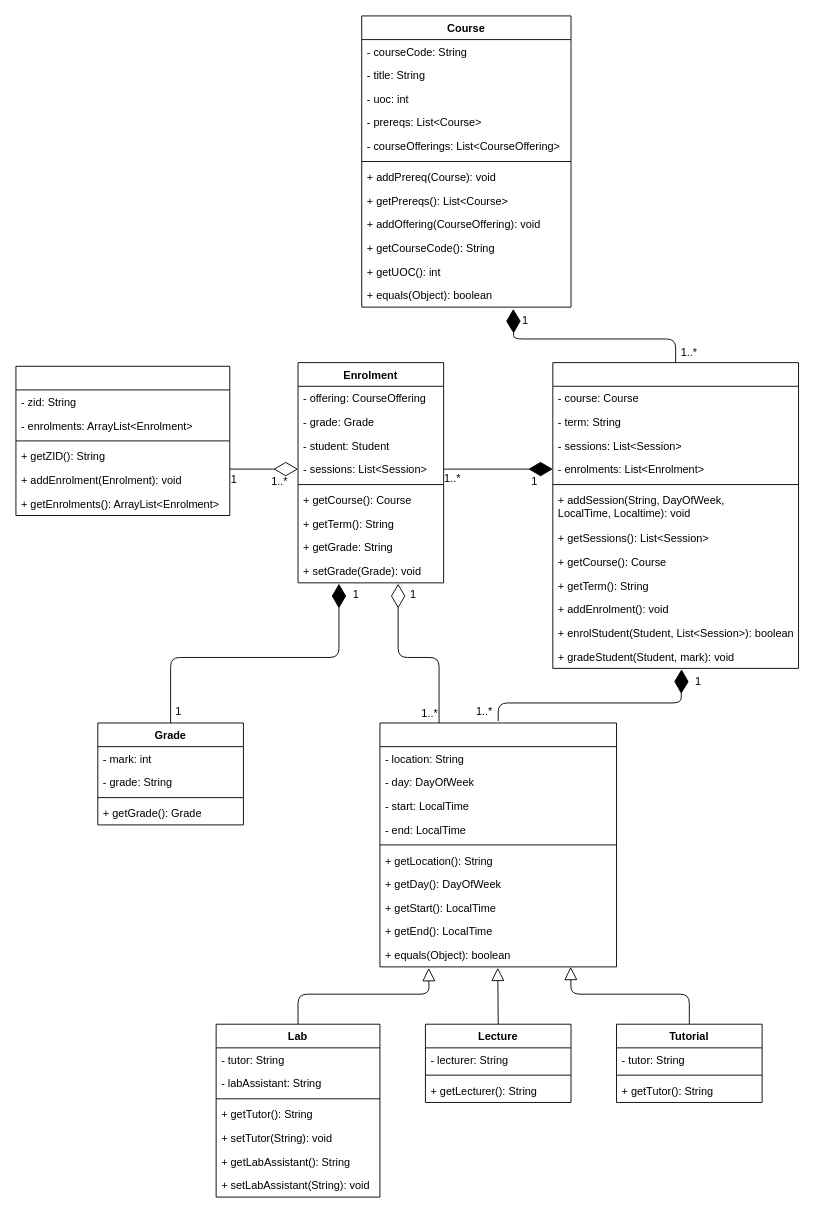
The diagram is 814 pixels wide and 1216 high, and some of its shapes have lost their labels. Each missing label, with the box of its shape:
CourseOffering: (552, 362, 799, 668)
Session: (379, 722, 617, 967)
Student: (15, 365, 230, 516)
